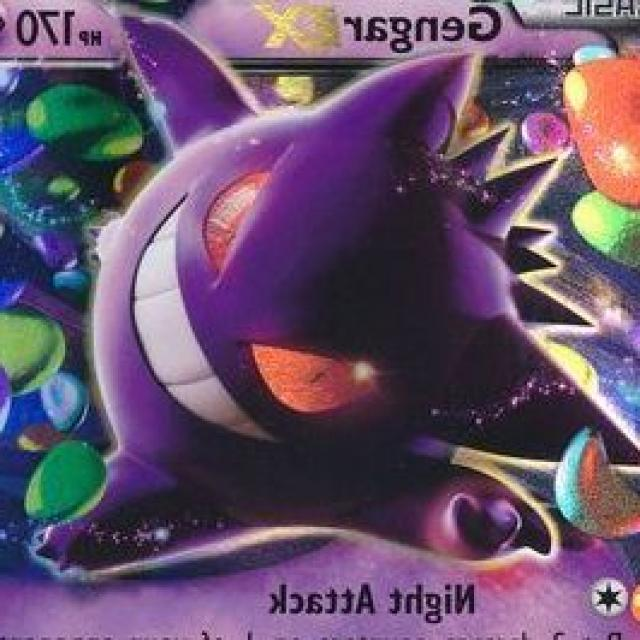Gengar: (36, 50, 599, 577)
